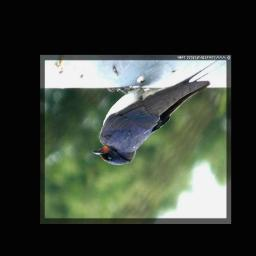Swallow: (92, 56, 225, 166)
